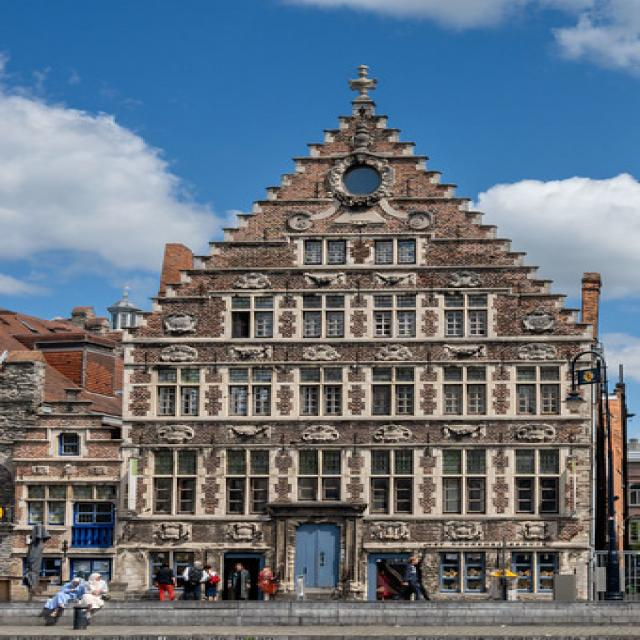Normal_building: (131, 85, 607, 613)
